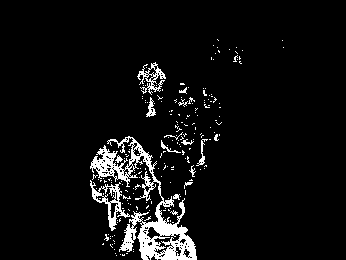person: (121, 138, 159, 255), (143, 193, 199, 260), (155, 134, 196, 224), (92, 136, 124, 235), (196, 86, 223, 168), (172, 81, 194, 165), (141, 60, 164, 121)
